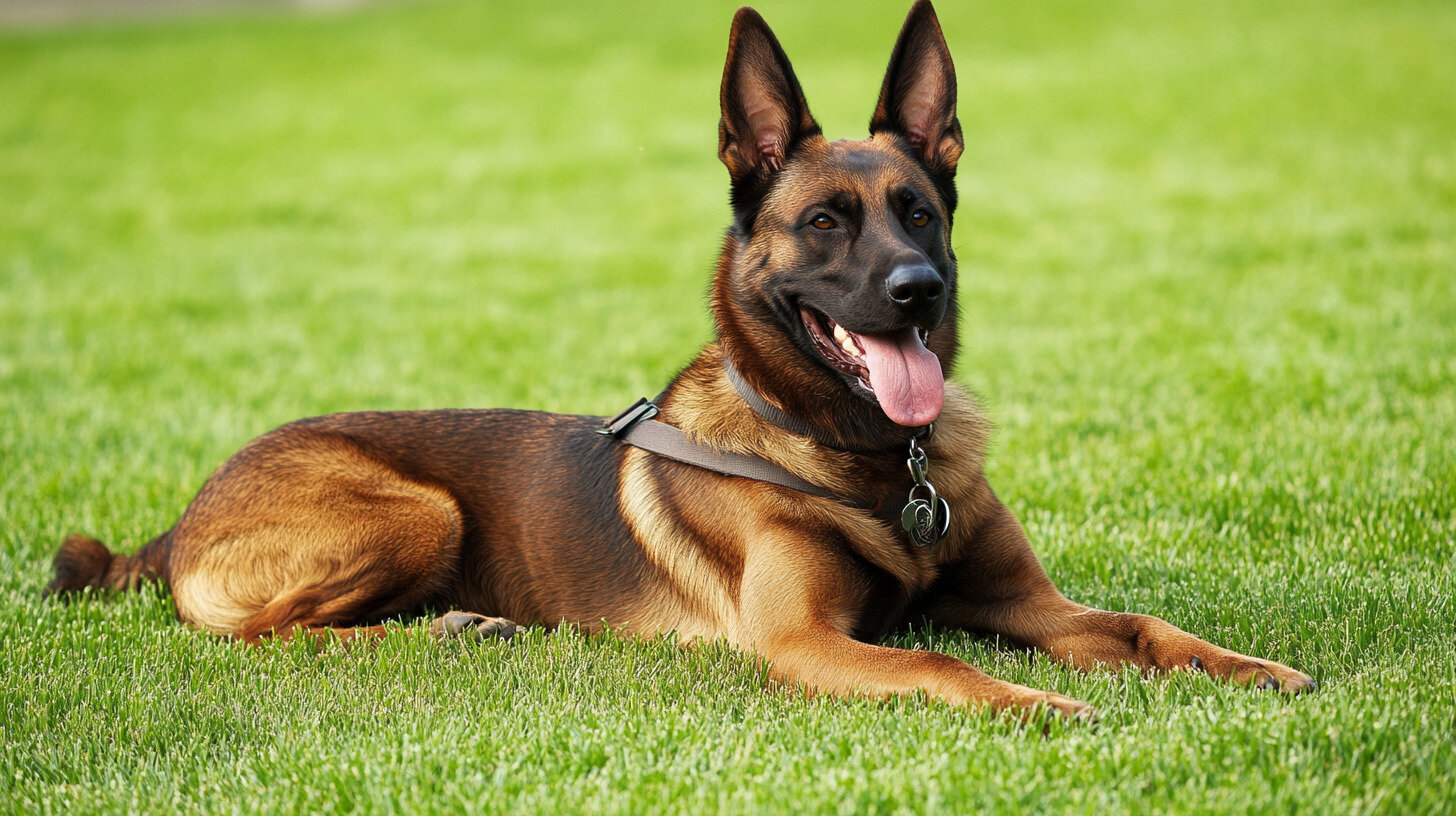dog: (62, 8, 1328, 731)
